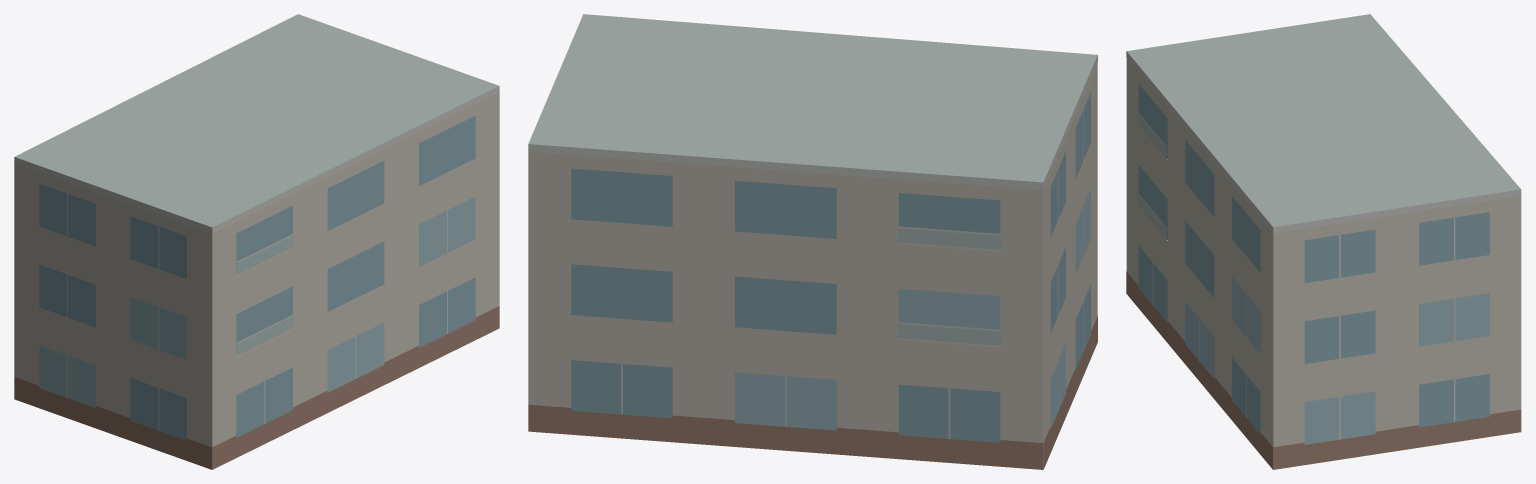
The model's file is survey-upis-32721276.glb.
3 renders of one model, left to right at view 1: azimuth 30°, elevation 25°; view 2: azimuth 150°, elevation 25°; view 3: azimuth 270°, elevation 25°, orthographic. The views are drawn at different scales.
Visible parts, largest first — view 1: survey-upis-32721276.tmp; view 2: survey-upis-32721276.tmp; view 3: survey-upis-32721276.tmp.
Boxes of the visible parts, x1=… form: survey-upis-32721276.tmp: x1=14, y1=14, x2=499, y2=469; survey-upis-32721276.tmp: x1=528, y1=14, x2=1097, y2=469; survey-upis-32721276.tmp: x1=1126, y1=14, x2=1521, y2=469.
Size of the model in its own units: 17.26 by 9.15 by 13.5.
